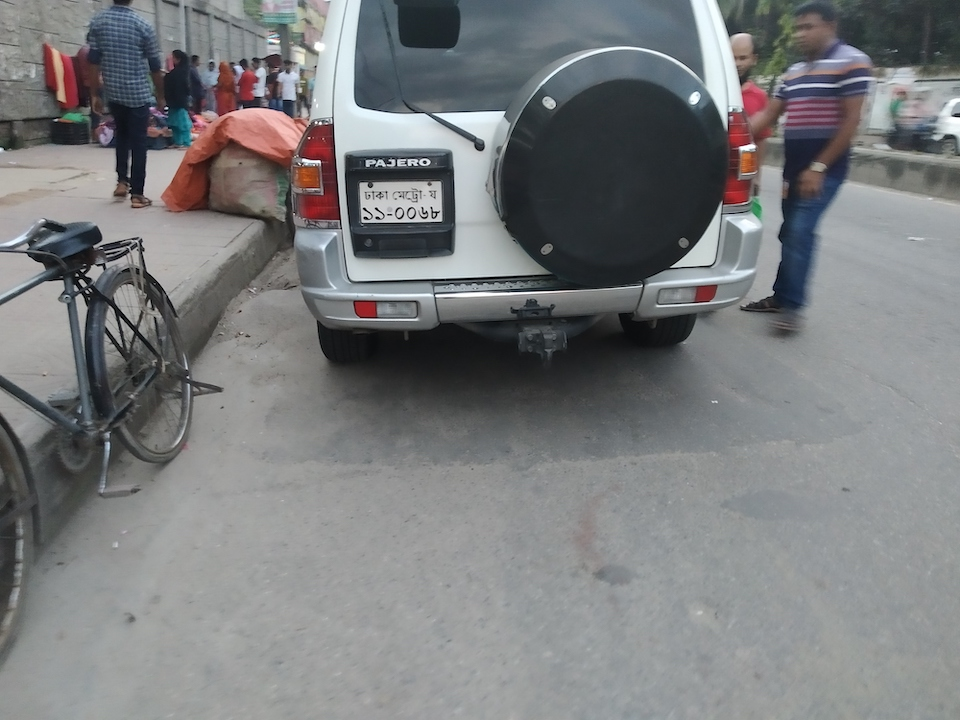registration_plate: (358, 179, 444, 223)
